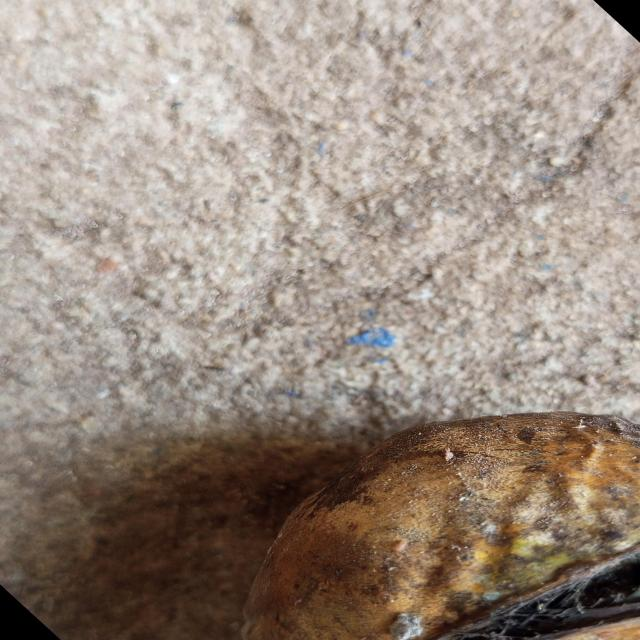damaged: (238, 413, 640, 640)
